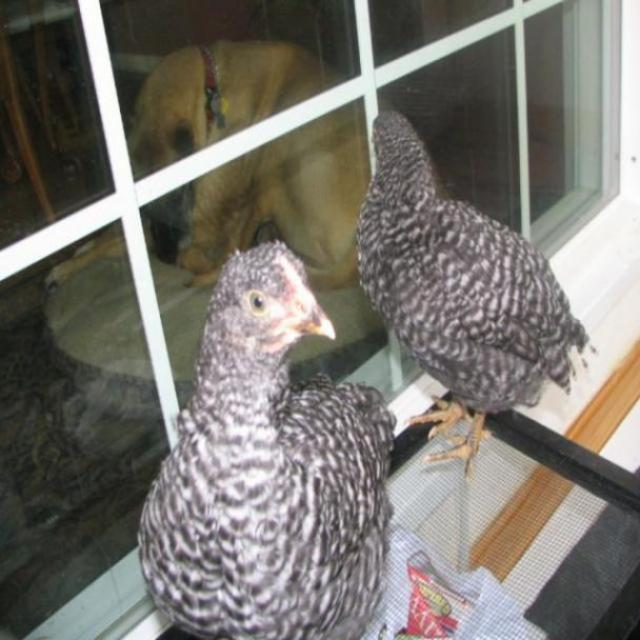Chicken: (129, 227, 399, 640), (359, 110, 609, 482)
